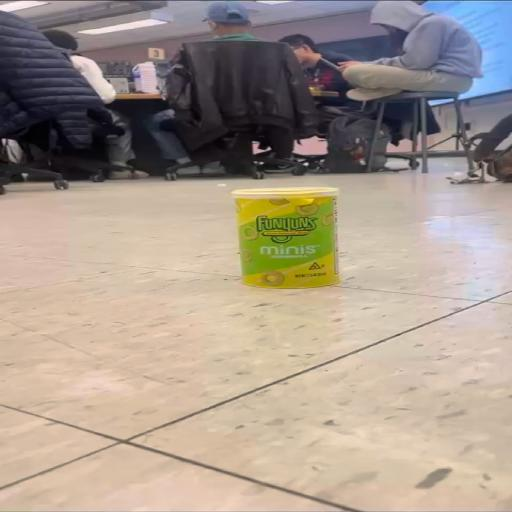pringle can: (236, 188, 341, 288)
